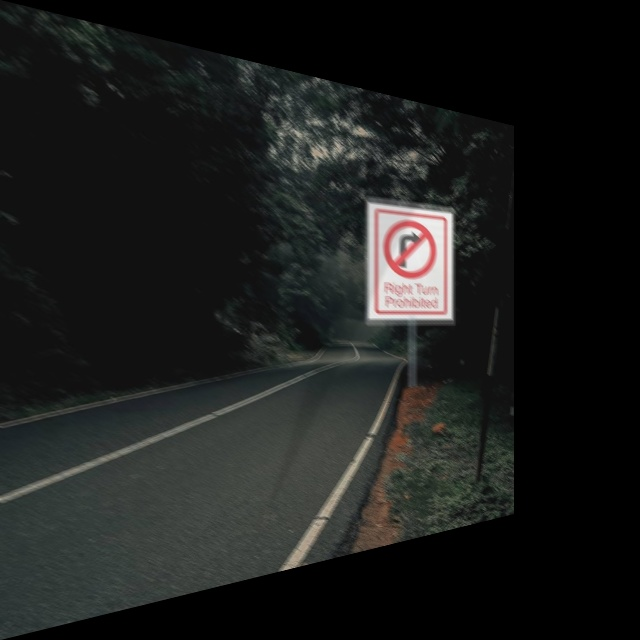Right_Turn_Prohibited: (377, 211, 443, 283)
